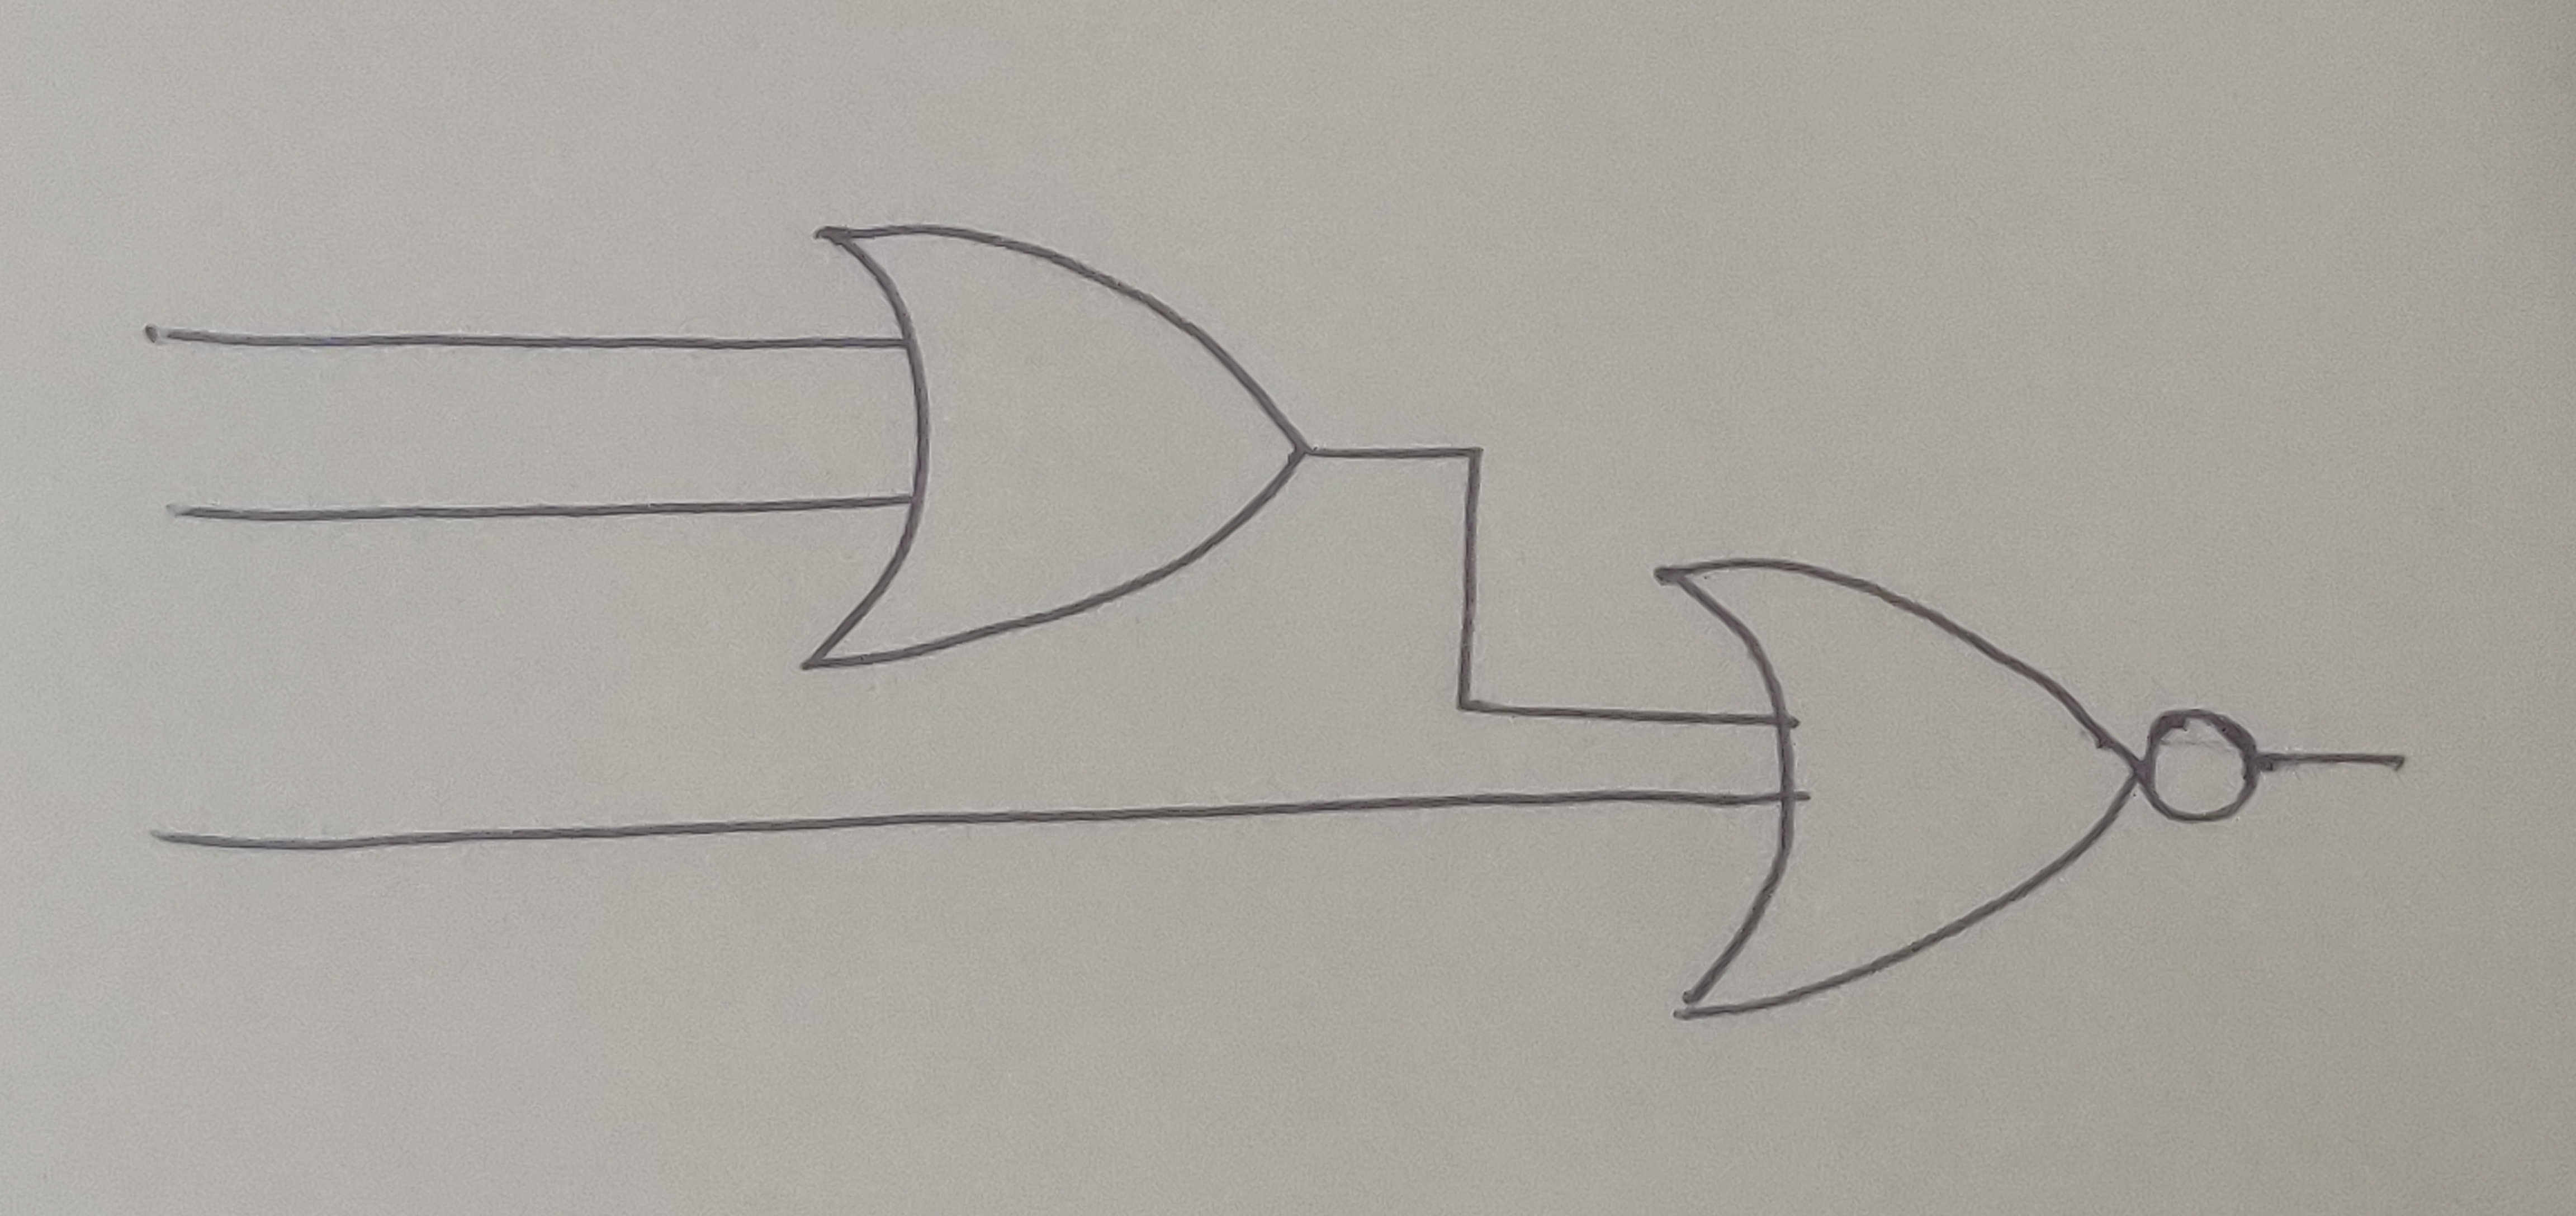not: (2139, 707, 2264, 828)
or: (805, 217, 1304, 677), (1653, 559, 2142, 1025)
